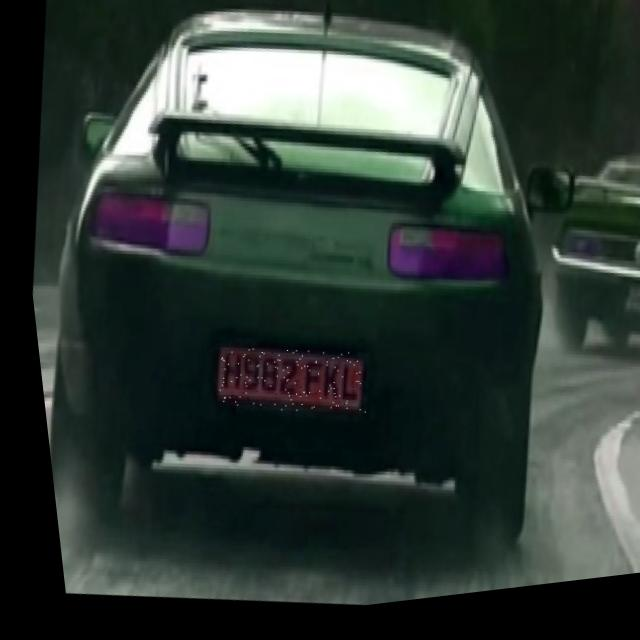license_plate: (201, 338, 366, 436)
